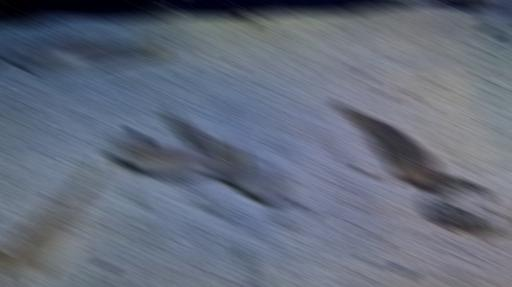Fish: (0, 159, 103, 286), (339, 103, 442, 186), (113, 130, 246, 175), (2, 38, 167, 73), (218, 152, 290, 201), (259, 283, 262, 286)
